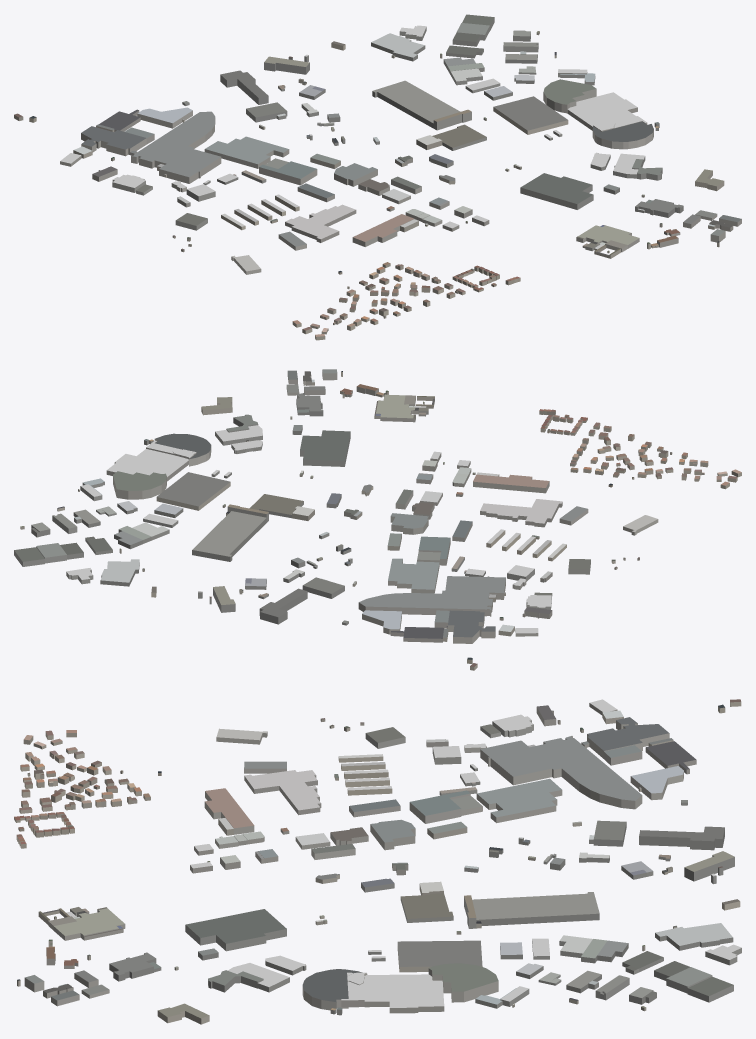
The picture shows the model from 3 angles, top to bottom: view 1: azimuth 30°, elevation 25°; view 2: azimuth 150°, elevation 25°; view 3: azimuth 270°, elevation 25°; orthographic projection. The views are drawn at different scales.
Parts seen in each view (by area): view 1: tuile; view 2: tuile; view 3: tuile.
Part boxes in pixels (<box>): tuile: <box>14,14,741,340</box>; tuile: <box>14,369,741,670</box>; tuile: <box>14,699,741,1024</box>.
Size of the model in its own units: 994 by 46.04 by 1003.
